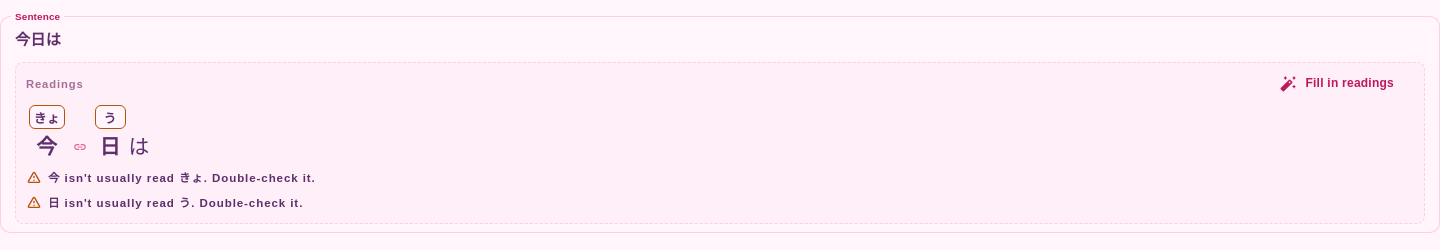
it: FuriganaEditor › joins two kanji into one reading for jukujikun
This screenshot has width=1440, height=250.
Step 1. Click the button named "Join 今 and 日 into one reading" → coordinates (80, 147), box left=68, top=131, right=92, bottom=162
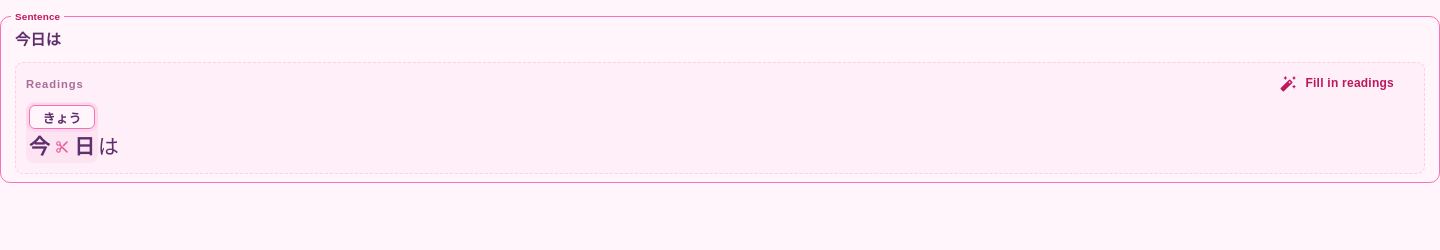
Check: the field named "Reading for 今日" holds "きょう", box left=30, top=106, right=94, bottom=128
